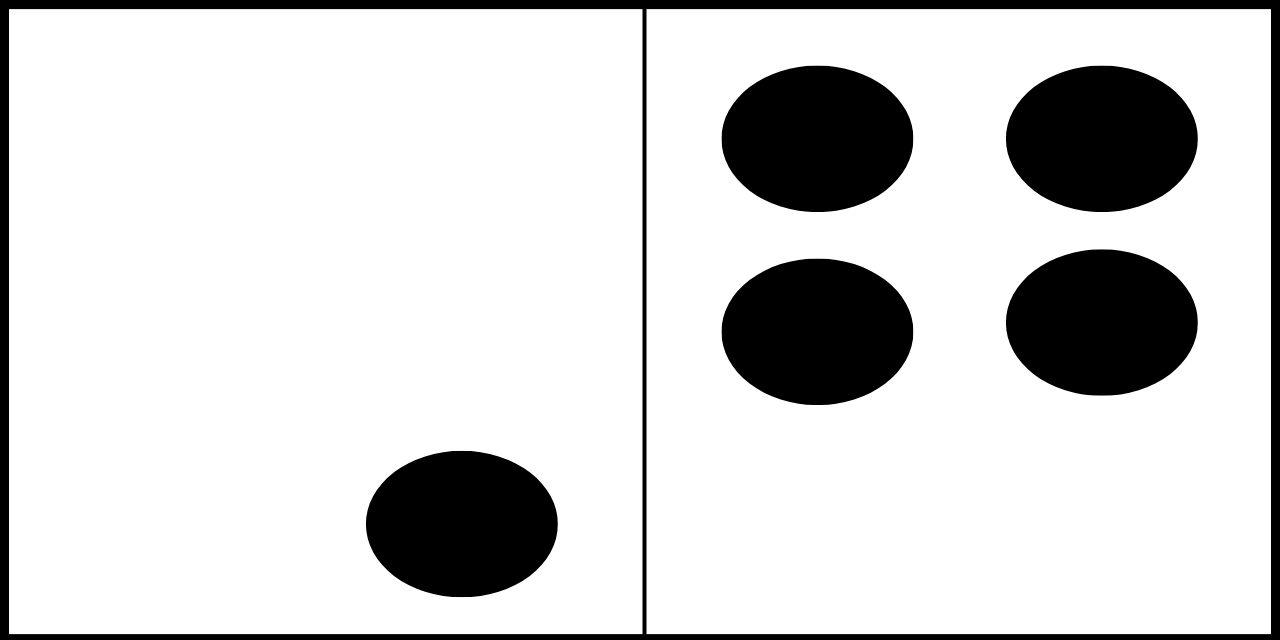G: (722, 67, 1199, 587)
capital: (117, 57, 558, 600)
